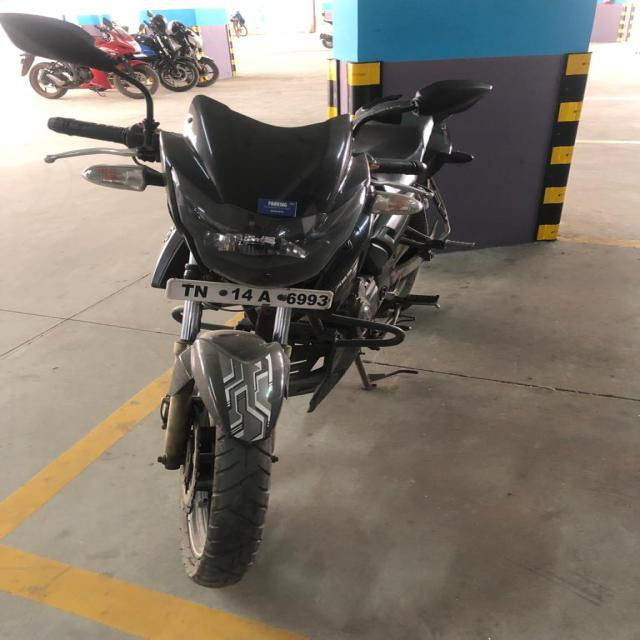license_plate: (164, 277, 334, 311)
